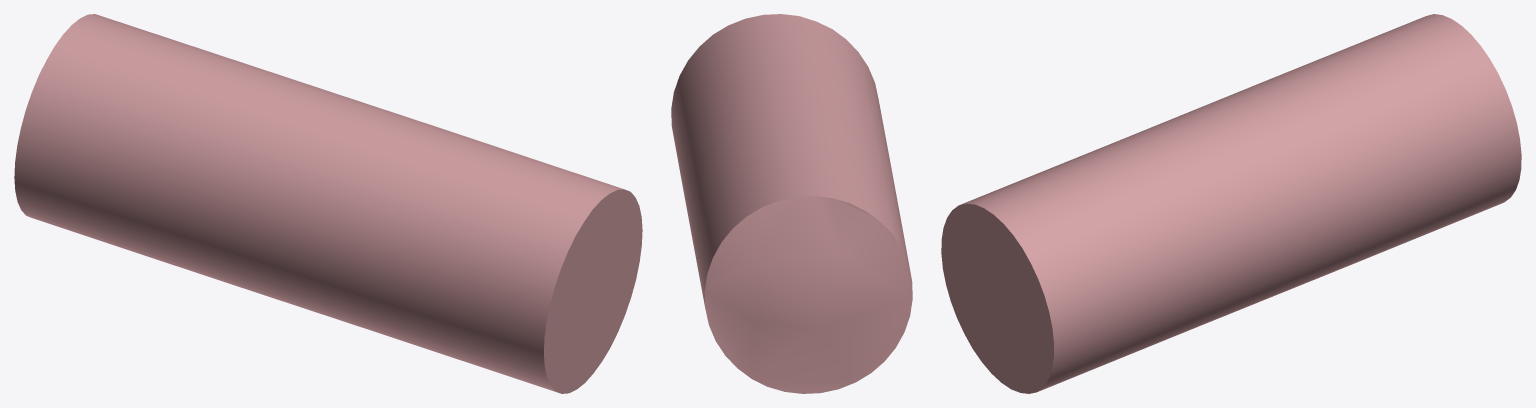
The model's file is fma239975_mm837.glb.
The picture shows the model from 3 angles, left to right: view 1: azimuth 30°, elevation 25°; view 2: azimuth 150°, elevation 25°; view 3: azimuth 270°, elevation 25°; orthographic projection. The views are drawn at different scales.
Parts seen in each view (by area): view 1: FMA239975_MM837; view 2: FMA239975_MM837; view 3: FMA239975_MM837.
Part boxes in pixels (left/top/right/bottom): FMA239975_MM837: left=14, top=14, right=642, bottom=393; FMA239975_MM837: left=671, top=14, right=912, bottom=393; FMA239975_MM837: left=941, top=14, right=1521, bottom=393.
Size of the model in its own units: 0.0112 by 0.00625 by 0.0136.
